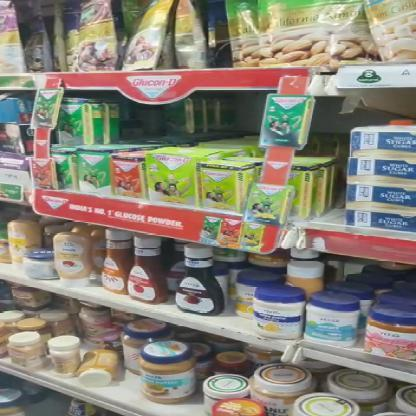Glucon D Nimbu Pani 1-KG: (148, 148, 200, 204), (198, 160, 242, 208)
Glucon D Regular 1-KG: (74, 148, 108, 189)
Glucon D Tangy orange 1-KG: (110, 152, 145, 196)
